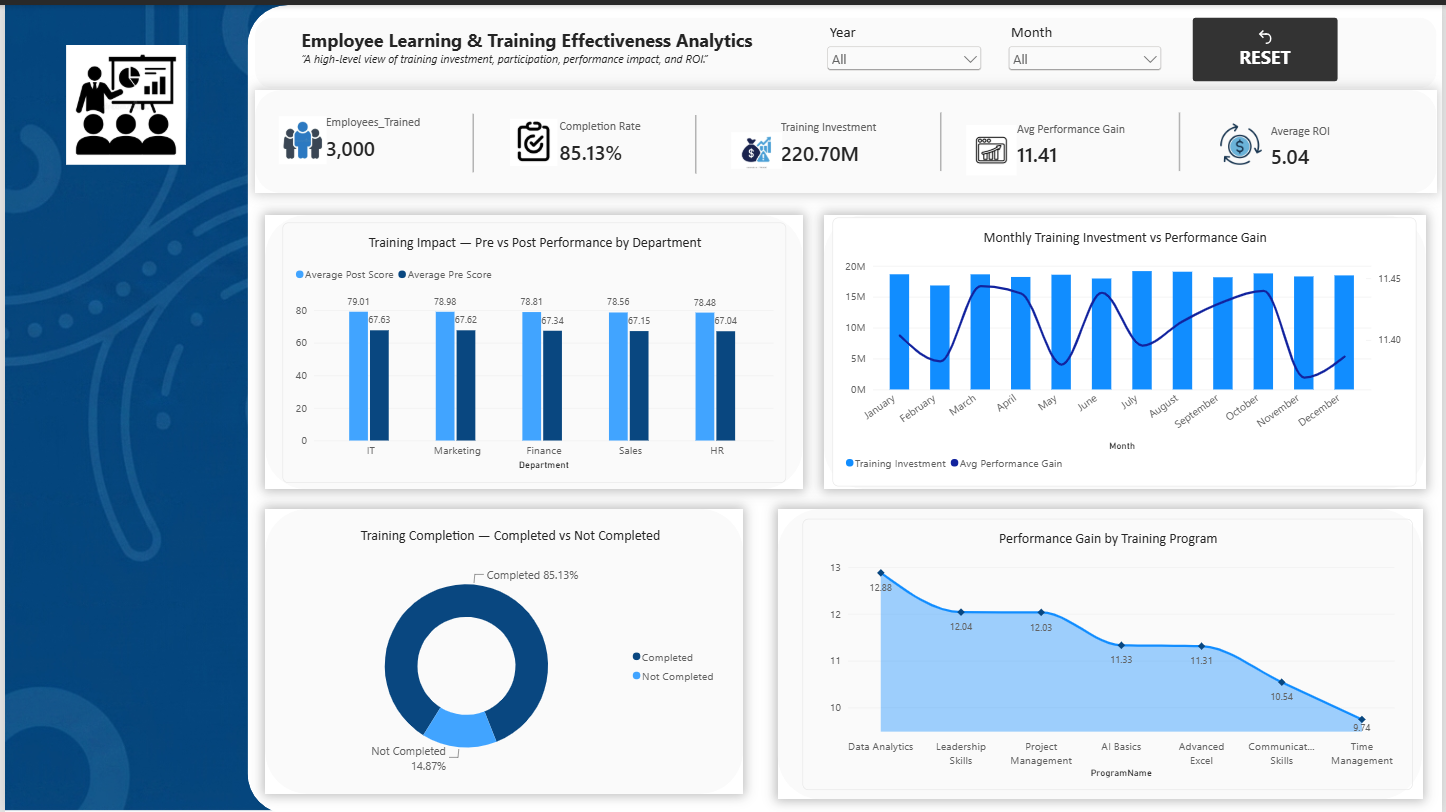

Layout of this report page (visuals, bound fields, positions):
{"tool":"powerbi","page":{"name":"OVERVIEW","canvas":[1920,1080],"ordinal":0},"visuals":[{"type":"shape","box":[323.2,0,1597.3,1080.6],"z":0},{"type":"shape","box":[333.4,16.5,1578.7,94.7],"z":1000},{"type":"cardVisual","fields":{"Data":["Key Measures.Employees_Trained"]},"box":[413.6,130.7,195,96.7],"z":1003,"group":"g1"},{"type":"cardVisual","fields":{"Data":["Key Measures.Total Training Investment"]},"box":[1019.5,136.9,195.5,96.7],"z":1004,"group":"g3"},{"type":"cardVisual","fields":{"Data":["Key Measures.Completion Rate"]},"box":[725.7,135.5,195,96],"z":1005,"group":"g2"},{"type":"cardVisual","fields":{"Data":["Key Measures.Average Performance Gain"]},"box":[1335.8,132.9,214.1,107],"z":1006,"group":"g5"},{"type":"cardVisual","fields":{"Data":["Key Measures.Average ROI"]},"box":[1674.7,138.6,178.5,103.1],"z":1007,"group":"g4"},{"type":"image","box":[366.3,149.2,64,64],"z":1008,"group":"g1"},{"type":"image","box":[675.3,152.8,63,63],"z":1010,"group":"g2"},{"type":"image","box":[970.1,159.5,68,68],"z":1012,"group":"g3"},{"type":"image","box":[1284.1,160.2,67.1,67],"z":1014,"group":"g5"},{"type":"image","box":[1618,150.3,66.1,70.9],"z":1015,"group":"g4"},{"type":"textbox","box":[395.2,30.9,636,80.3],"z":2000},{"type":"shape","box":[333.1,114.1,1578.7,137.9],"z":3000},{"type":"group","id":"g1","title":"Group 1","box":[366.3,130.7,242.9,95.7],"z":4000},{"type":"group","id":"g2","title":"Group 2","box":[675.3,135.5,245.4,96],"z":5000},{"type":"group","id":"g3","title":"Group 3","box":[970.1,136.9,247.1,98.5],"z":6000},{"type":"group","id":"g4","title":"Group 4","box":[1618,138.6,235.4,103.5],"z":7000},{"type":"group","id":"g5","title":"Group 5","box":[1284.1,132.9,265.7,107],"z":8000},{"type":"shape","box":[576.1,145.3,98.8,78.2],"z":9000},{"type":"shape","box":[1519,144.1,98.8,78.2],"z":10000},{"type":"shape","box":[1200,144.1,98.8,78.2],"z":11000},{"type":"shape","box":[872.7,146.1,98.8,78.2],"z":12000},{"type":"shape","box":[347.9,279.9,718.4,366.4],"z":13000},{"type":"clusteredColumnChart","title":"Training Impact — Pre vs Post Performance by Department","fields":{"Category":["LearningDevelopment_Dataset.Department"],"Y":["Key Measures.Average Post Score","Key Measures.Average Pre Score"]},"box":[369.9,290.8,673.1,347.9],"z":14000},{"type":"shape","box":[347.9,673.6,638.7,381],"z":15000},{"type":"shape","box":[1032.5,673.6,861.4,388.3],"z":16000},{"type":"areaChart","title":"Performance Gain by Training Program","fields":{"Category":["LearningDevelopment_Dataset.ProgramName"],"Y":["Key Measures.Avg Performance Gain"]},"box":[1065.6,686.5,815.3,362.6],"z":17000},{"type":"shape","box":[1093.3,279.8,804.3,366.3],"z":18000},{"type":"lineClusteredColumnComboChart","title":"Monthly Training Investment vs Performance Gain","fields":{"Category":["LearningDevelopment_Dataset.TrainingDate.Variation.Date Hierarchy.Month"],"Y2":["Key Measures.Avg Performance Gain"],"Y":["Key Measures.Training Investment"]},"box":[1106.1,283.4,780.4,358.9],"z":19000},{"type":"donutChart","title":"Training Completion — Completed vs Not Completed","fields":{"Category":["LearningDevelopment_Dataset.CompletionStatus"],"Y":["CountNonNull(LearningDevelopment_Dataset.EmployeeID)"]},"box":[379.1,682.8,592.6,362.6],"z":20000},{"type":"slicer","fields":{"Values":["LearningDevelopment_Dataset.TrainingDate.Variation.Date Hierarchy.Year"]},"box":[1093.3,23.9,215.3,86.5],"z":21000},{"type":"image","box":[77.3,53.4,169.3,160.1],"z":22000},{"type":"slicer","fields":{"Values":["LearningDevelopment_Dataset.TrainingDate.Variation.Date Hierarchy.Month"]},"box":[1336.2,23.9,213.5,69.9],"z":23000},{"type":"actionButton","box":[1586.1,16.7,194.1,85.6],"z":24000}]}

Visuals, with their boxes in screenshot pixels (x1, y1, x2, y2), scaled from the page's 1920x1080 canvas onto the 1446x812 screenshot:
shape: 243:0:1445:811
shape: 251:12:1440:84
cardVisual - Key Measures.Employees_Trained: 311:98:458:171
cardVisual - Key Measures.Total Training Investment: 768:103:915:176
cardVisual - Key Measures.Completion Rate: 547:102:693:174
cardVisual - Key Measures.Average Performance Gain: 1006:100:1167:180
cardVisual - Key Measures.Average ROI: 1261:104:1396:182
image: 276:112:324:160
image: 509:115:556:162
image: 731:120:782:171
image: 967:120:1018:171
image: 1219:113:1268:166
textbox: 298:23:777:84
shape: 251:86:1440:189
"Group 1" group: 276:98:459:170
"Group 2" group: 509:102:693:174
"Group 3" group: 731:103:917:177
"Group 4" group: 1219:104:1396:182
"Group 5" group: 967:100:1167:180
shape: 434:109:508:168
shape: 1144:108:1218:167
shape: 904:108:978:167
shape: 657:110:732:169
shape: 262:210:803:486
"Training Impact — Pre vs Post Performance by Department" clusteredColumnChart: 279:219:786:480
shape: 262:506:743:793
shape: 778:506:1426:798
"Performance Gain by Training Program" areaChart: 803:516:1417:789
shape: 823:210:1429:486
"Monthly Training Investment vs Performance Gain" lineClusteredColumnComboChart: 833:213:1421:483
"Training Completion — Completed vs Not Completed" donutChart: 286:513:732:786
slicer - LearningDevelopment_Dataset.TrainingDate.Variation.Date Hierarchy.Year: 823:18:986:83
image: 58:40:186:161
slicer - LearningDevelopment_Dataset.TrainingDate.Variation.Date Hierarchy.Month: 1006:18:1167:71
actionButton: 1195:13:1341:77
